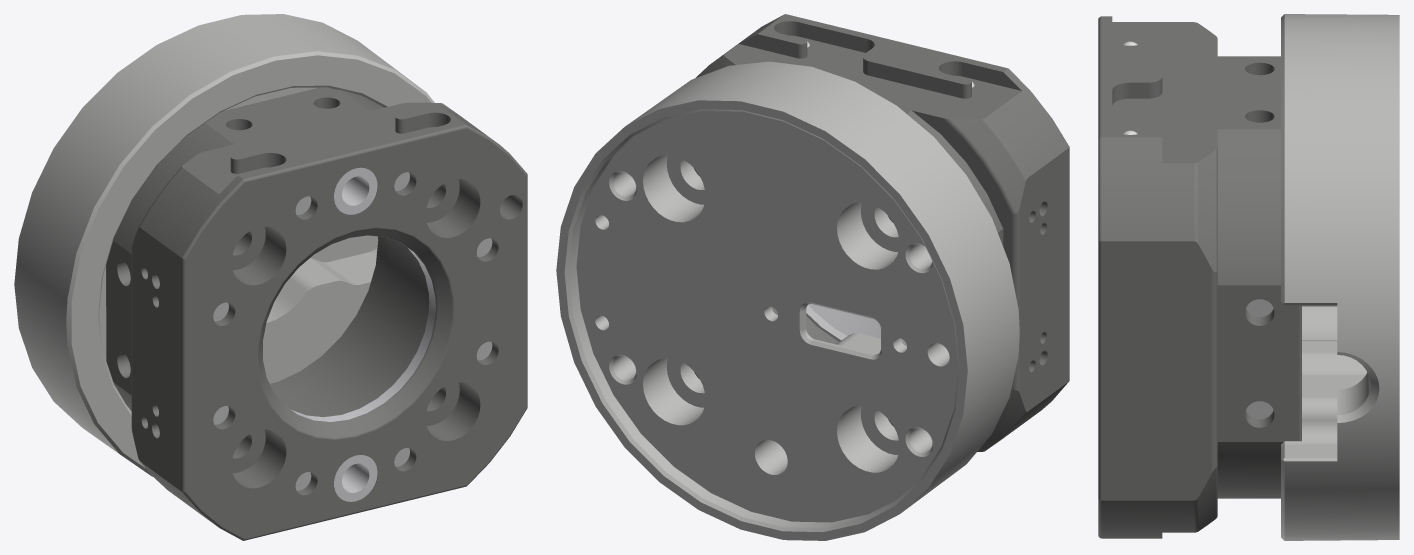
Rendered from gripper_connector.glb.
The picture shows the model from 3 angles, left to right: view 1: azimuth 30°, elevation 25°; view 2: azimuth 150°, elevation 25°; view 3: azimuth 270°, elevation 25°; orthographic projection. The views are drawn at different scales.
Parts seen in each view (by area): view 1: GRP-CPL-062; view 2: GRP-CPL-062; view 3: GRP-CPL-062.
Boxes of the visible parts, x1=… form: GRP-CPL-062: x1=14, y1=14, x2=527, y2=540; GRP-CPL-062: x1=556, y1=14, x2=1069, y2=540; GRP-CPL-062: x1=1098, y1=14, x2=1399, y2=540.
Size of the model in its own units: 0.075 by 0.075 by 0.0429.
Materials: 1 (1 with a texture image).
